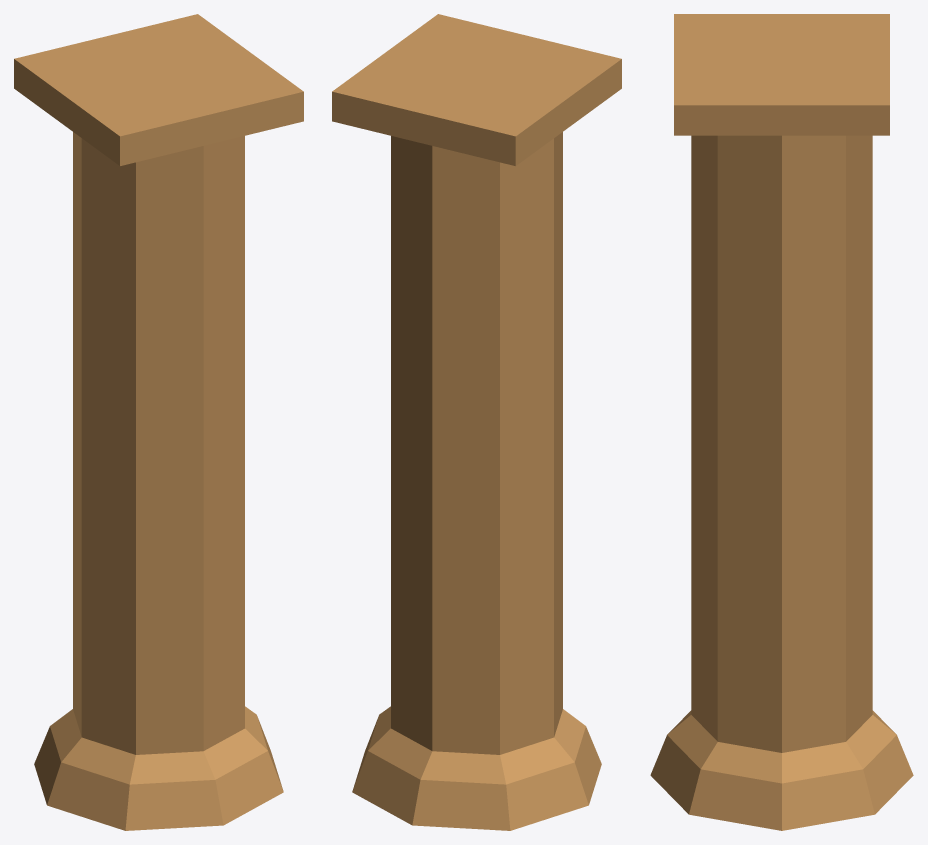
Rendered from egypt-pillar-proto-doric.glb.
The picture shows the model from 3 angles, left to right: view 1: azimuth 30°, elevation 25°; view 2: azimuth 150°, elevation 25°; view 3: azimuth 270°, elevation 25°; orthographic projection.
Parts seen in each view (by area): view 1: egypt-pillar-proto-doric; view 2: egypt-pillar-proto-doric; view 3: egypt-pillar-proto-doric.
Part boxes in pixels (bbox=[...]): egypt-pillar-proto-doric: bbox=[14, 14, 303, 830]; egypt-pillar-proto-doric: bbox=[332, 14, 621, 830]; egypt-pillar-proto-doric: bbox=[650, 14, 913, 830].
Bounding box in the file's own units: 3 × 9 × 3.
1 material, 1 textured.
